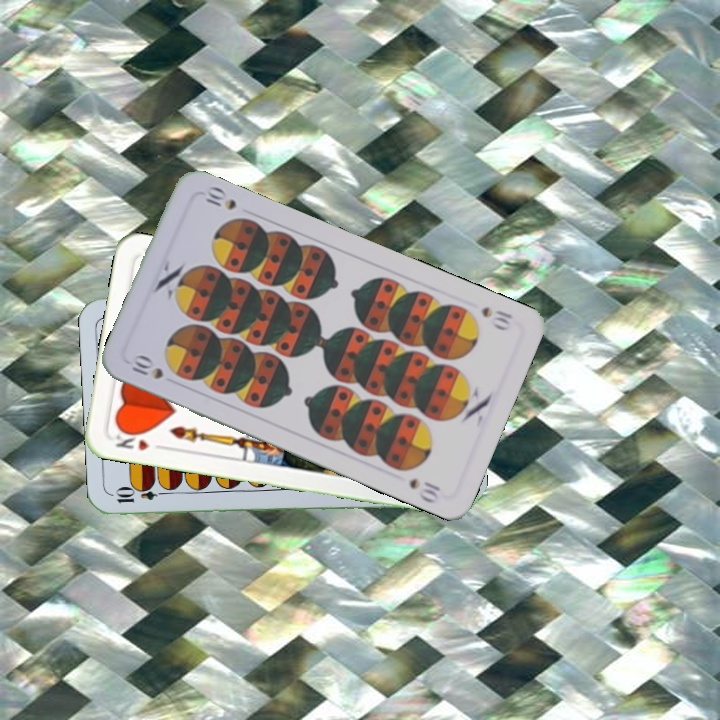E10: (112, 485, 171, 506)
HK: (112, 425, 167, 454)
S10: (477, 302, 516, 333), (127, 353, 167, 382)
